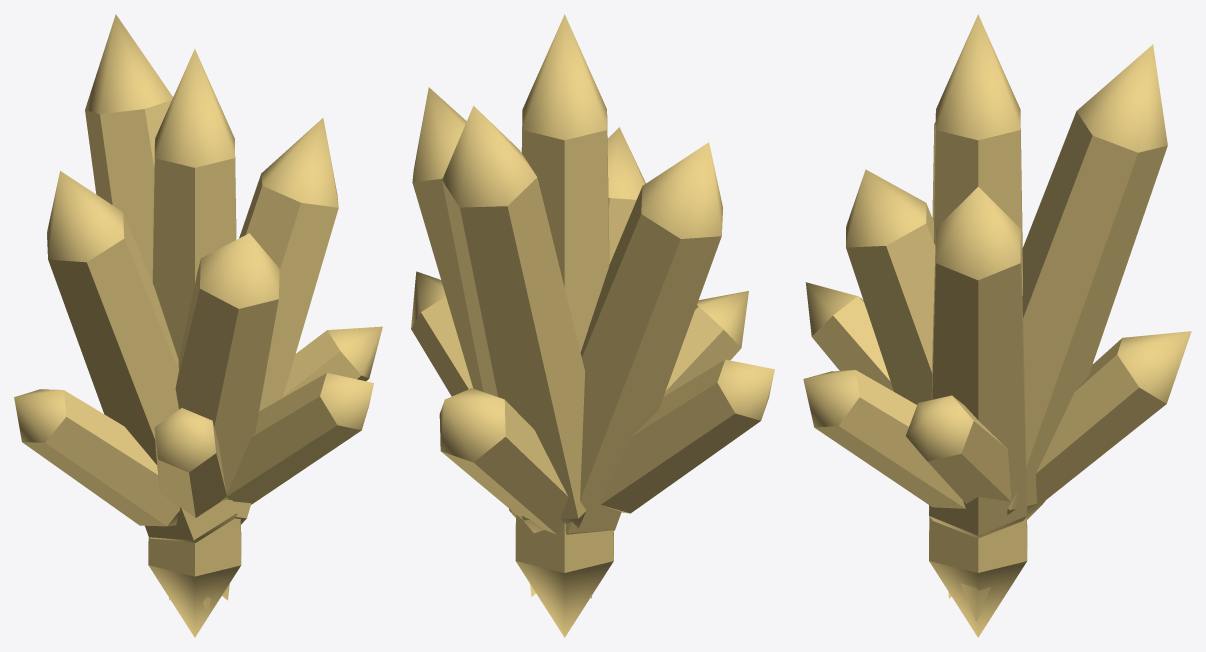
The model's file is cristal_L1.fbx.
3 views of the same model, side by side, from view 1: azimuth 30°, elevation 25°; view 2: azimuth 150°, elevation 25°; view 3: azimuth 270°, elevation 25° (orthographic). The views are drawn at different scales.
Parts seen in each view (by area): view 1: pCylinder11; view 2: pCylinder11; view 3: pCylinder11.
Boxes of the visible parts, x1,y1,x2,y2 form: pCylinder11: [14, 14, 382, 637]; pCylinder11: [411, 14, 774, 637]; pCylinder11: [803, 14, 1191, 637].
Bounding box in the file's own units: 168 × 268 × 151.
